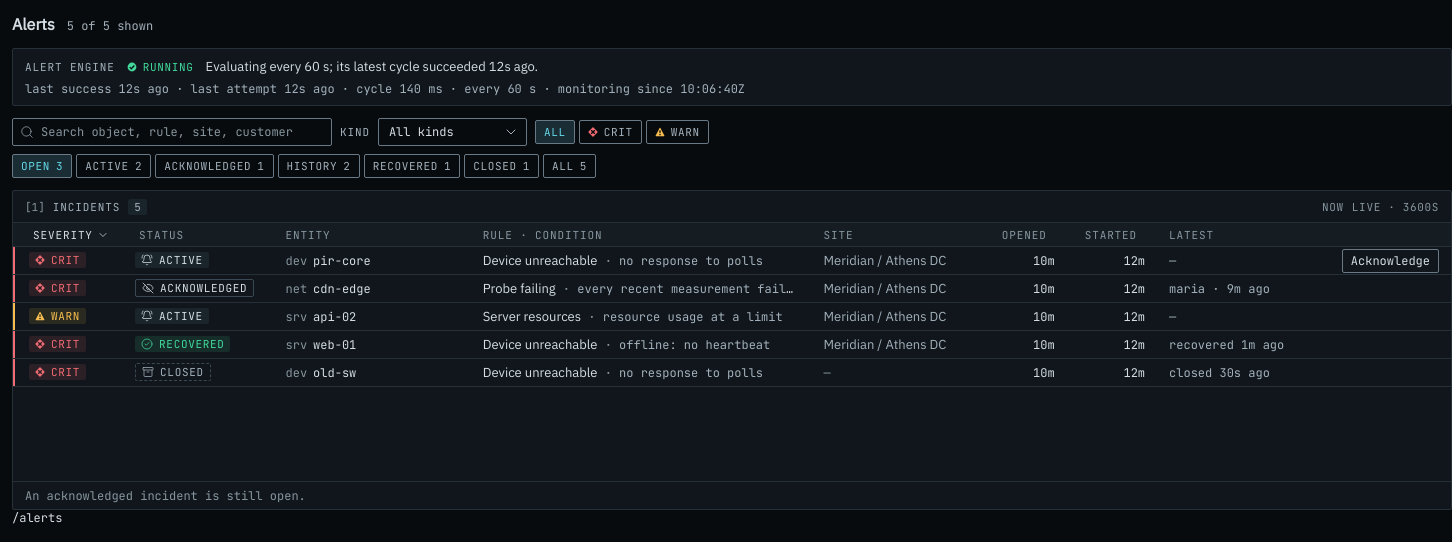
it: failures › keeps the last list under a banner when a refresh fails
Click the button "CRIT" at (610, 132), box [579,120,642,144]
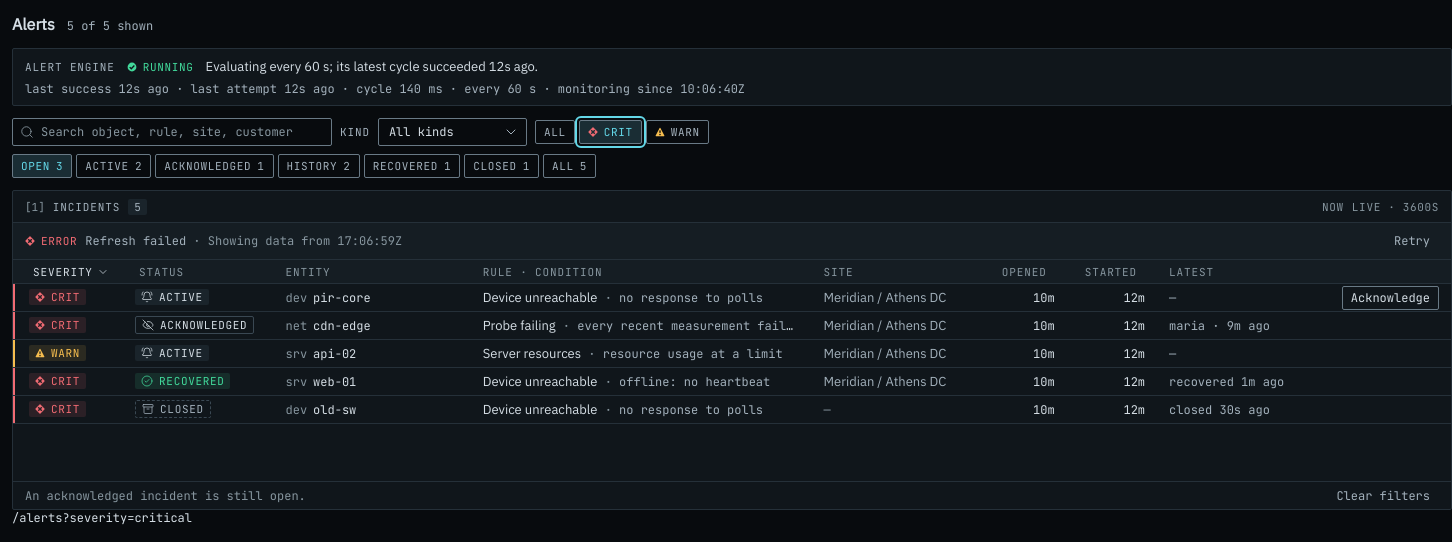
expect the table named "Incidents" is shown: met, box [13,260,1451,424]
expect the text "Refresh failed · Showing data from 17:06:59Z" is shown: met, box [85,233,402,249]
